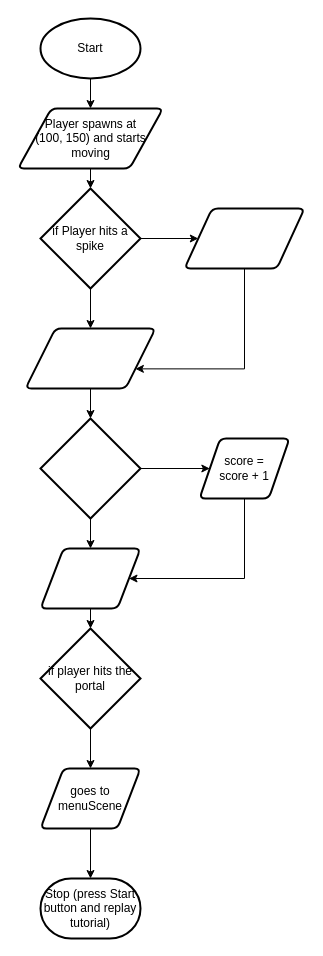
The diagram is 323 pixels wide and 956 high, and some of its shapes have lost their labels. Here are the shapes that lost their labels. From the top down, the box of each, then its label:
(183, 207, 305, 269): Player respawns at (100, 199)
(24, 327, 156, 389): Player jumps and avoids spike
(39, 417, 141, 519): if player hits coin
(39, 547, 141, 609): score stays the same
